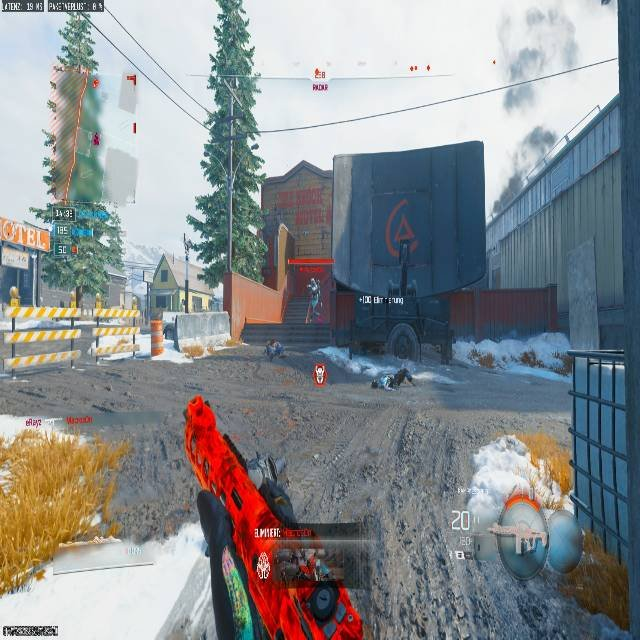player: (305, 277, 321, 321), (263, 337, 286, 361)
